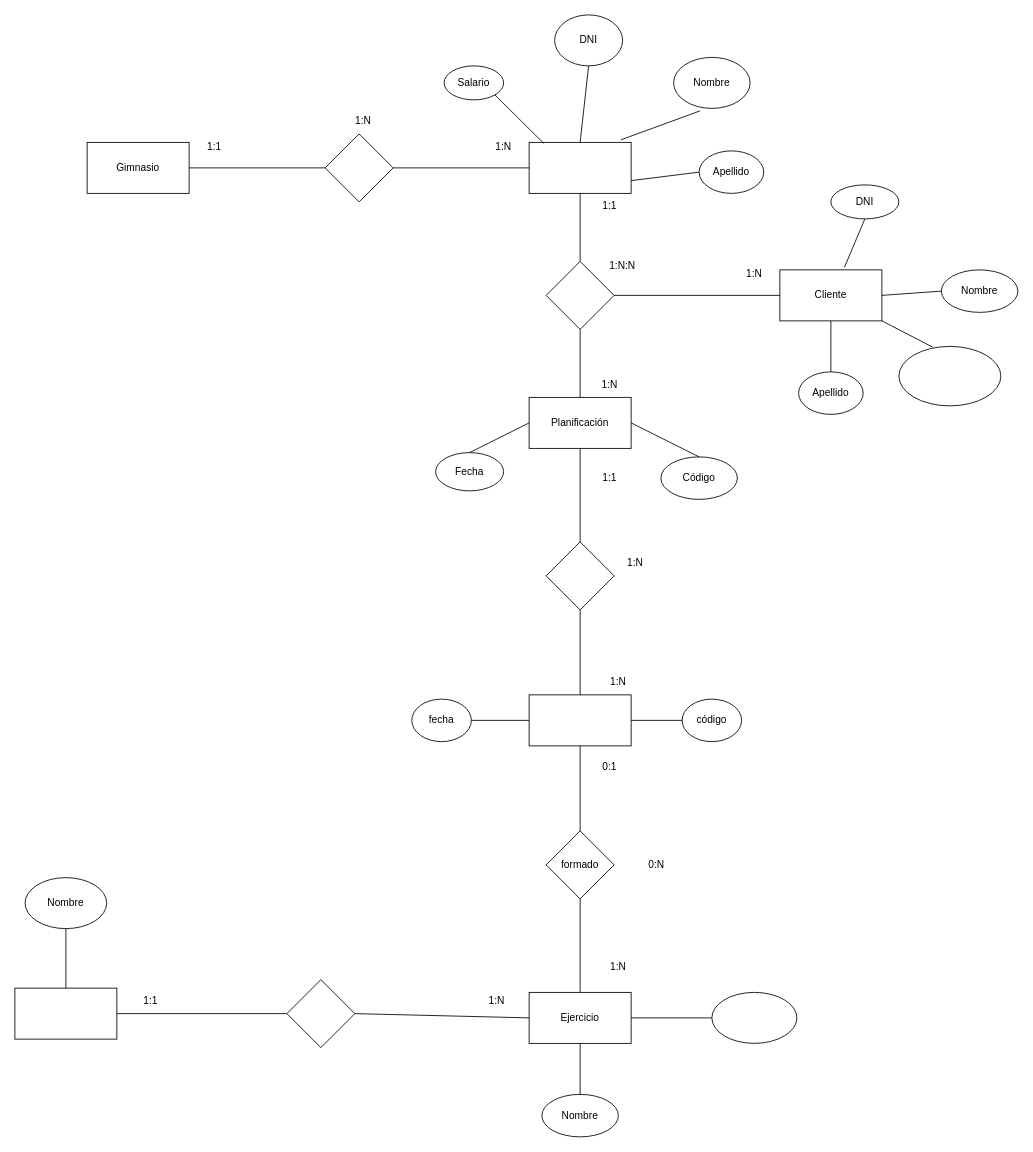
Image size: 1033x1152. Some labels were removed from this diagram. The centre of each missing label's shape, as x and y in pixels:
"crea" belongs at (579,295).
"Entrenador" belongs at (579,167).
"Entrenamiento" belongs at (579,720).
"Fecha en que se apunto al gym" belongs at (949,376).
"formada" belongs at (579,575).
"Material" belongs at (65,1013).
"Nº de series" belongs at (754,1017).
"trabajan" belongs at (358,167).
"utilizan" belongs at (320,1013).
